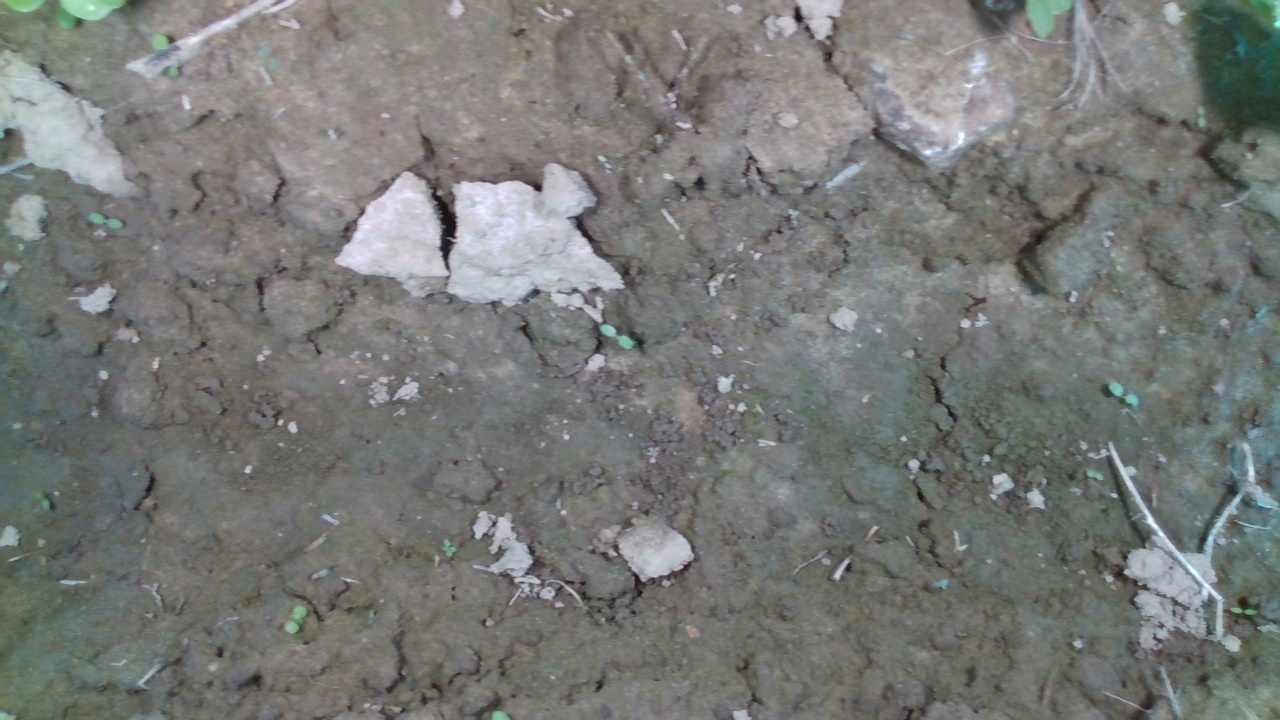weed: (592, 320, 643, 352)
